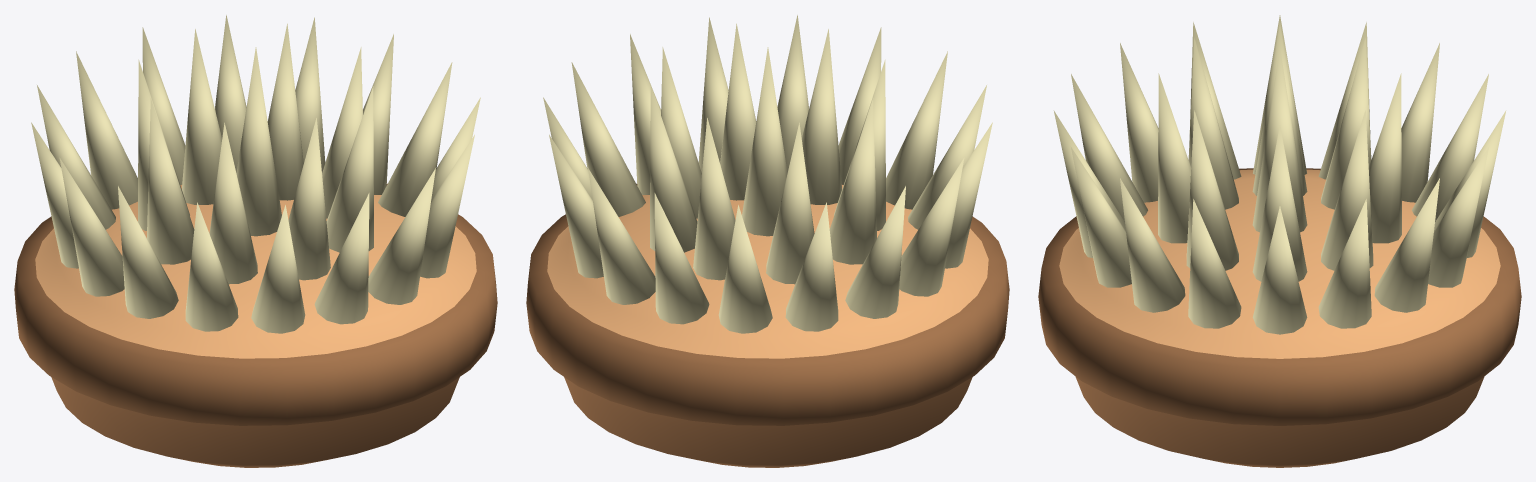
The model's file is Spike Cluster.fbx.
The picture shows the model from 3 angles, left to right: view 1: azimuth 30°, elevation 25°; view 2: azimuth 150°, elevation 25°; view 3: azimuth 270°, elevation 25°; orthographic projection.
Parts seen in each view (by area): view 1: Spike Cluster - Daniel Lochner; view 2: Spike Cluster - Daniel Lochner; view 3: Spike Cluster - Daniel Lochner.
Part boxes in pixels (bbox=[...]): Spike Cluster - Daniel Lochner: bbox=[14, 15, 497, 467]; Spike Cluster - Daniel Lochner: bbox=[526, 15, 1009, 467]; Spike Cluster - Daniel Lochner: bbox=[1038, 15, 1521, 467].
Bounding box in the file's own units: 52.7 × 46.3 × 52.7.
